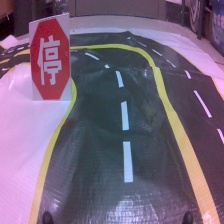stop: (30, 12, 74, 101)
